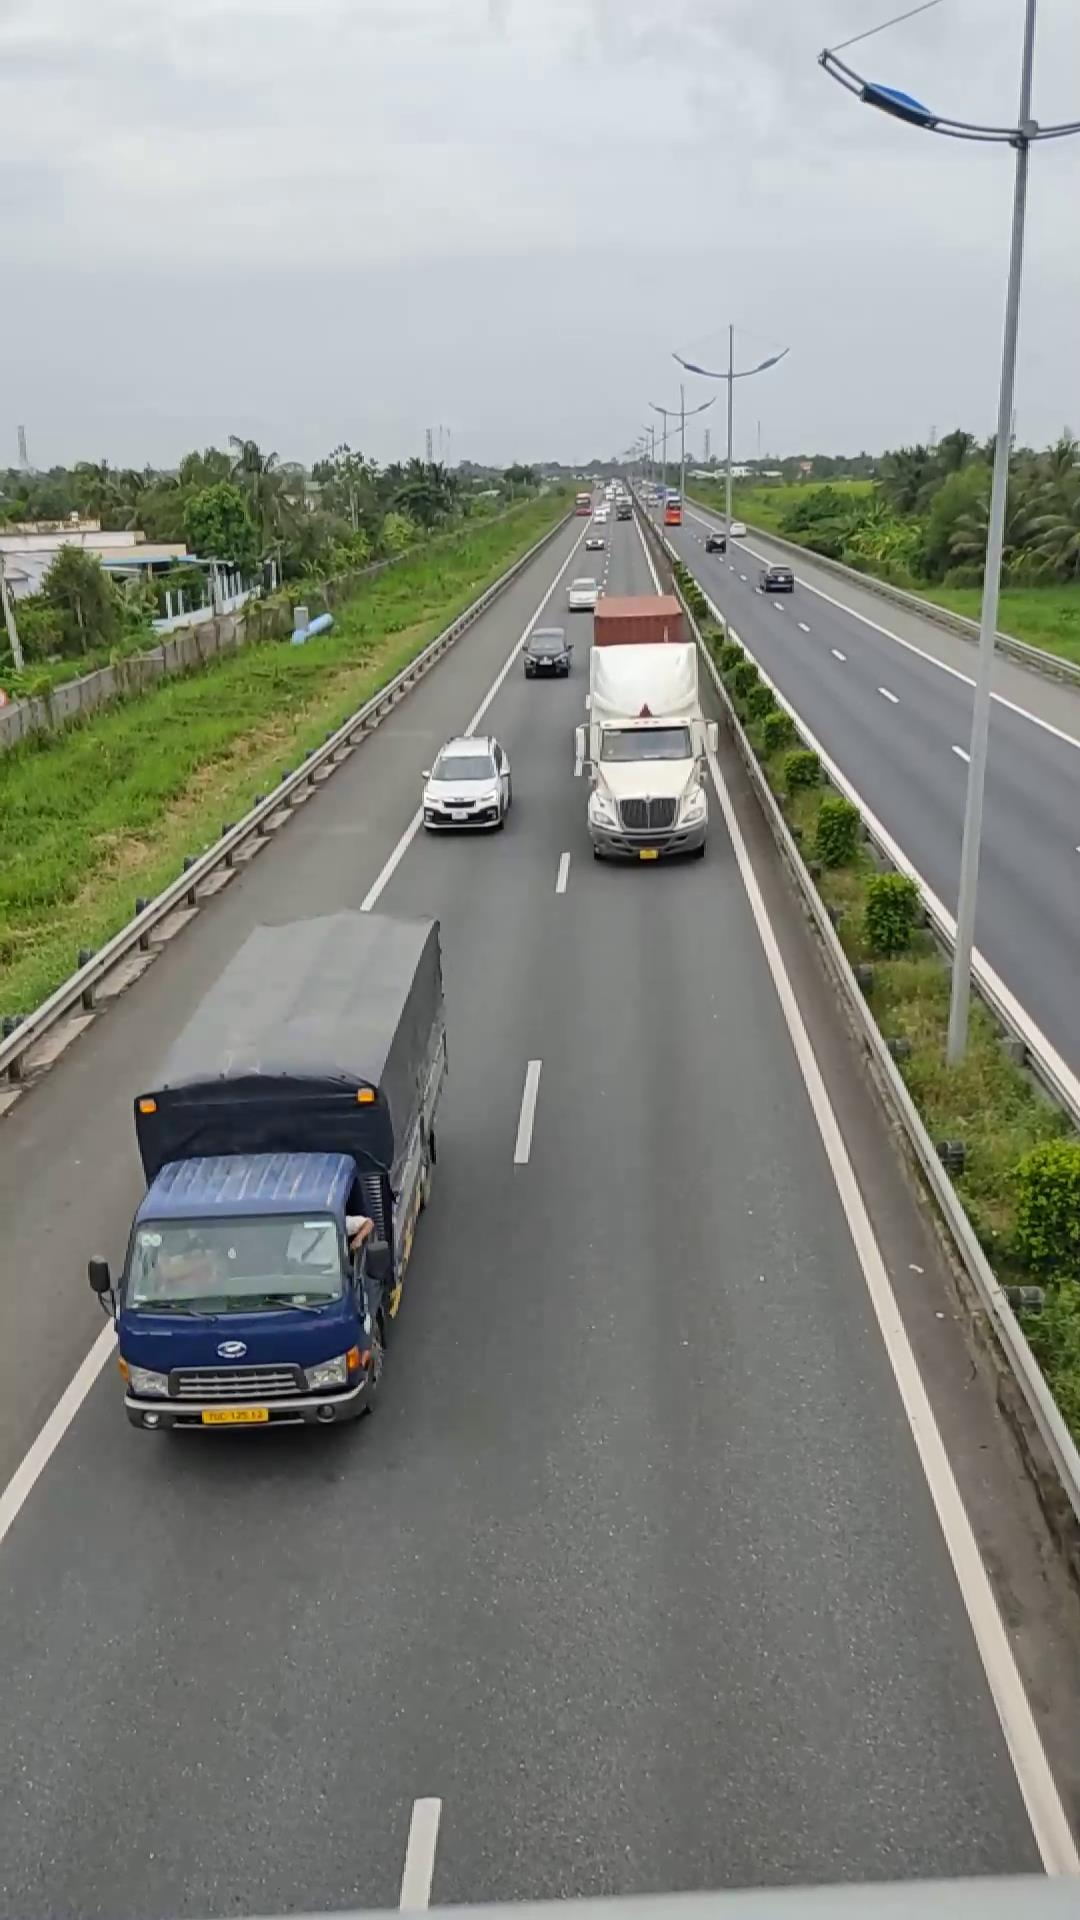car: (418, 736, 513, 830)
container: (573, 586, 717, 863)
truck: (106, 904, 450, 1433)
